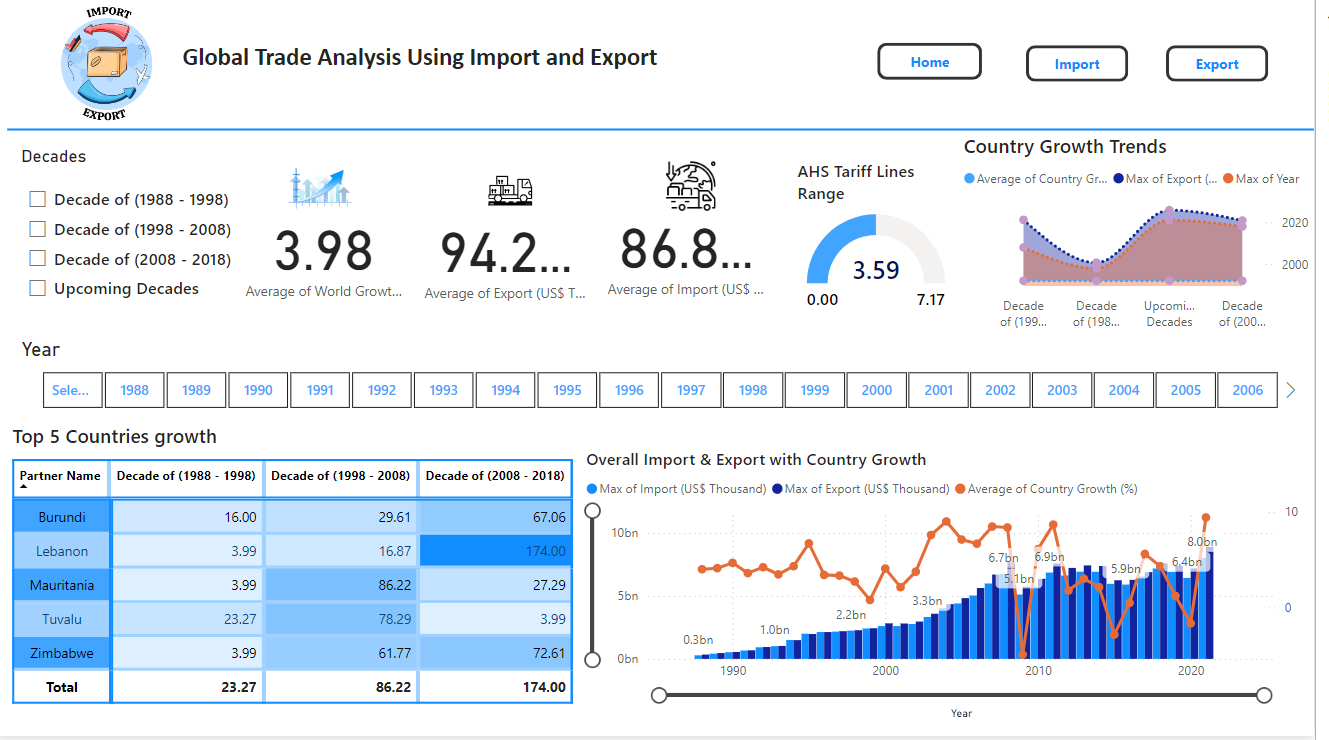

Layout of this report page (visuals, bound fields, positions):
{"tool":"powerbi","page":{"name":"Home","canvas":[1280,720],"ordinal":0},"visuals":[{"type":"group","id":"g1","title":"Group 3","box":[10.9,0,1269.3,708.6],"z":0},{"type":"image","box":[10.9,0,192.8,135],"z":0,"group":"g3"},{"type":"lineChart","title":"Country Growth Trends","fields":{"Category":["34_years dataset_cleaned_data.Decades"],"Y":["Avg(34_years dataset_cleaned_data.Country Growth (%))","Max(34_years dataset_cleaned_data.Export (US$ Thousand))"],"Y2":["Max(34_years dataset_cleaned_data.Year)"]},"box":[934,135.1,345,199.1],"z":0,"group":"g1"},{"type":"card","fields":{"Values":["Avg(34_years dataset_cleaned_data.World Growth (%))"]},"box":[234.3,194.3,168,112.9],"z":0,"group":"g2"},{"type":"textbox","box":[175.8,41.4,492.2,52.3],"z":1000,"group":"g3"},{"type":"slicer","title":"Decades","fields":{"Values":["34_years dataset_cleaned_data.Decades"]},"box":[19.3,147.2,219.6,162.9],"z":1000,"group":"g1"},{"type":"lineClusteredColumnComboChart","title":"Overall Import & Export with Country Growth","fields":{"Y":["Max(34_years dataset_cleaned_data.Import (US$ Thousand))","Max(34_years dataset_cleaned_data.Export (US$ Thousand))"],"Y2":["Avg(34_years dataset_cleaned_data.Country Growth (%))"],"Category":["34_years dataset_cleaned_data.Year"]},"box":[567.9,439.3,701.4,269.4],"z":1000},{"type":"actionButton","box":[855.9,47.9,101.8,35.9],"z":2000,"group":"g3"},{"type":"group","id":"g2","title":"Group 1","box":[234.3,154.4,520,155.6],"z":2000,"group":"g1"},{"type":"card","fields":{"Values":["Avg(34_years dataset_cleaned_data.Export (US$ Thousand))"]},"box":[410.8,197.3,168,111.6],"z":2000,"group":"g2"},{"type":"group","id":"g3","title":"Group 2","box":[10.9,0,1269.3,169.9],"z":3000,"group":"g1"},{"type":"actionButton","box":[1000.1,49.4,99.3,35.5],"z":3000,"group":"g3"},{"type":"card","fields":{"Values":["Avg(34_years dataset_cleaned_data.Import (US$ Thousand))"]},"box":[586.4,193.4,167.2,111.6],"z":3000,"group":"g2"},{"type":"actionButton","box":[1135.2,49.4,99.3,35.5],"z":4000,"group":"g3"},{"type":"gauge","title":" AHS Tariff Lines Range","fields":{"Y":["Avg(34_years dataset_cleaned_data.AHS AVE Tariff Lines Share (%))"]},"box":[773.4,160.5,162.9,156.8],"z":4000,"group":"g1"},{"type":"image","box":[277.4,155.6,76,61.9],"z":5000,"group":"g2"},{"type":"slicer","title":"Year","fields":{"Values":["34_years dataset_cleaned_data.Year"]},"box":[19.3,334.2,1248.7,74.8],"z":5000,"group":"g1"},{"type":"shape","box":[10.9,93.7,1269.3,76.2],"z":6000,"group":"g3"},{"type":"image","box":[645.4,155.6,57.4,61.9],"z":6000,"group":"g2"},{"type":"pivotTable","title":"Top 5 Countries growth","fields":{"Rows":["34_years dataset_cleaned_data.Partner Name"],"Columns":["34_years dataset_cleaned_data.Decades"],"Values":["Max(34_years dataset_cleaned_data.Country Growth (%))"]},"box":[10.9,416.1,557,292.5],"z":6000,"group":"g1"},{"type":"image","box":[473.2,154.4,52.3,74],"z":7000,"group":"g2"}]}

Visuals, with their boxes in screenshot pixels (x1, y1, x2, y2), scaled from the page's 1280x720 canvas onto the 1329x740 screenshot:
"Group 3" group: {"left": 11, "top": 0, "right": 1328, "bottom": 728}
image: {"left": 11, "top": 0, "right": 211, "bottom": 139}
"Country Growth Trends" lineChart: {"left": 970, "top": 139, "right": 1328, "bottom": 343}
card - Avg(34_years dataset_cleaned_data.World Growth (%)): {"left": 243, "top": 200, "right": 418, "bottom": 316}
textbox: {"left": 183, "top": 43, "right": 694, "bottom": 96}
"Decades" slicer: {"left": 20, "top": 151, "right": 248, "bottom": 319}
"Overall Import & Export with Country Growth" lineClusteredColumnComboChart: {"left": 590, "top": 452, "right": 1318, "bottom": 728}
actionButton: {"left": 889, "top": 49, "right": 994, "bottom": 86}
"Group 1" group: {"left": 243, "top": 159, "right": 783, "bottom": 319}
card - Avg(34_years dataset_cleaned_data.Export (US$ Thousand)): {"left": 427, "top": 203, "right": 601, "bottom": 317}
"Group 2" group: {"left": 11, "top": 0, "right": 1328, "bottom": 175}
actionButton: {"left": 1038, "top": 51, "right": 1141, "bottom": 87}
card - Avg(34_years dataset_cleaned_data.Import (US$ Thousand)): {"left": 609, "top": 199, "right": 782, "bottom": 313}
actionButton: {"left": 1179, "top": 51, "right": 1282, "bottom": 87}
" AHS Tariff Lines Range" gauge: {"left": 803, "top": 165, "right": 972, "bottom": 326}
image: {"left": 288, "top": 160, "right": 367, "bottom": 224}
"Year" slicer: {"left": 20, "top": 343, "right": 1317, "bottom": 420}
shape: {"left": 11, "top": 96, "right": 1328, "bottom": 175}
image: {"left": 670, "top": 160, "right": 730, "bottom": 224}
"Top 5 Countries growth" pivotTable: {"left": 11, "top": 428, "right": 590, "bottom": 728}
image: {"left": 491, "top": 159, "right": 546, "bottom": 235}
